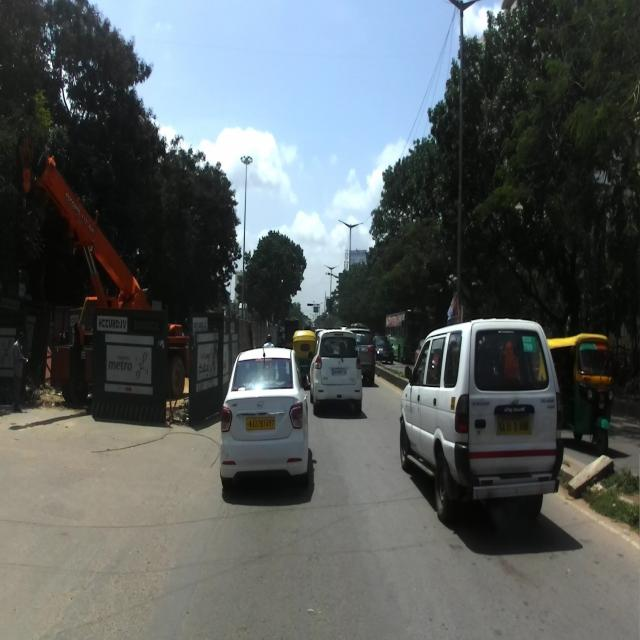Car_Chevrolet: (398, 314, 562, 522)
Car_Hyundai: (219, 346, 311, 498)
Car_Maruti-Suzuki: (308, 327, 364, 419)
autorickshaw: (545, 334, 612, 456)
